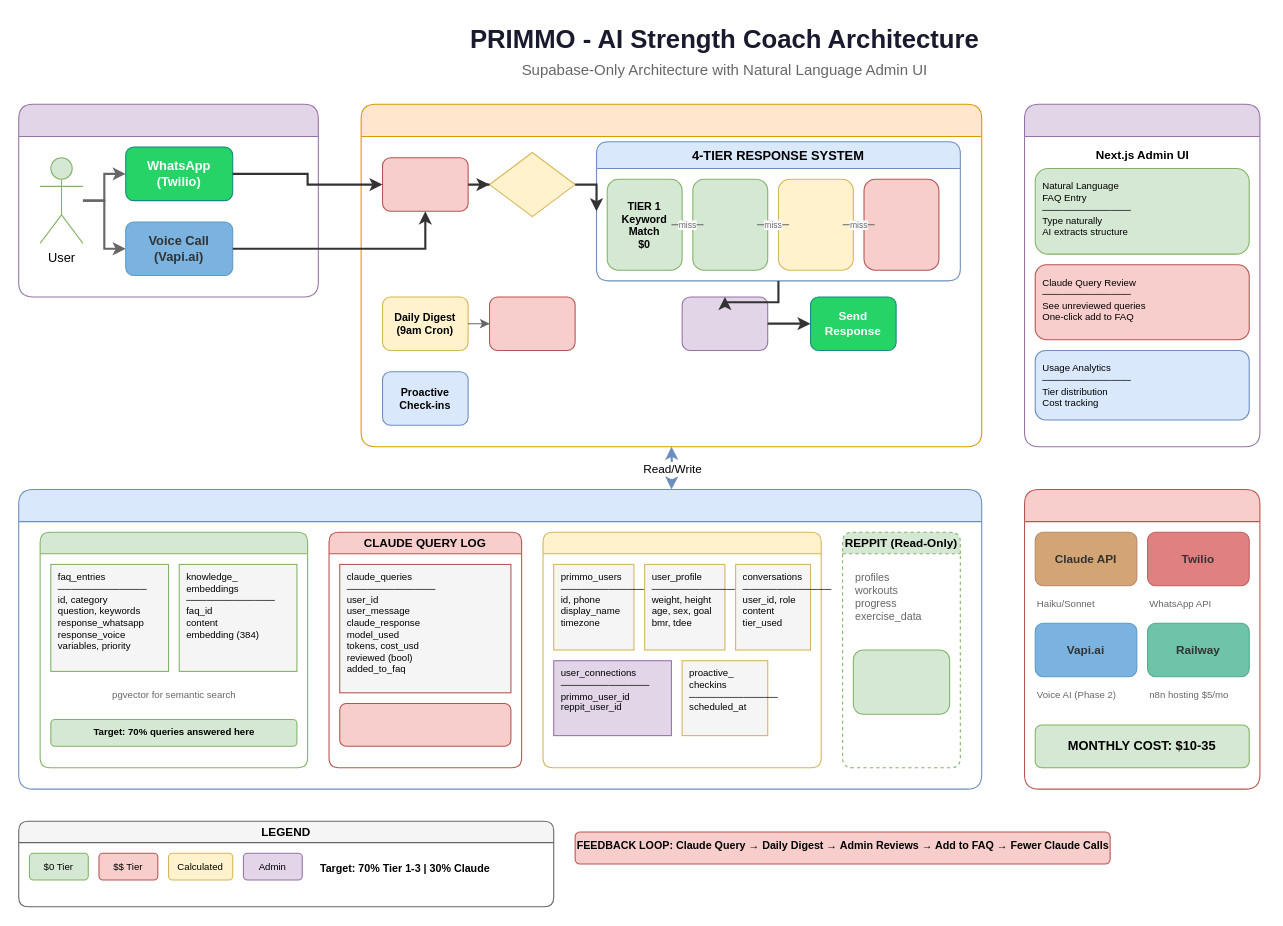
The diagram is 1283 pixels wide and 926 high, and some of its shapes have lost their labels. Here are the shapes that lost their labels. From the top down, the box of each, then its label:
(18, 103, 318, 297): USER CHANNELS
(381, 157, 468, 211): Webhook Handler
(488, 151, 575, 217): Message Router
(692, 178, 768, 270): TIER 2 Semantic Search $0
(777, 178, 853, 270): TIER 3 Calculated (BMR/TDEE) $0
(863, 178, 939, 270): TIER 4 Claude API $$$
(360, 103, 982, 447): n8n ORCHESTRATION (Railway $5/mo)
(1023, 103, 1260, 447): ADMIN DASHBOARD (Vercel Free)
(488, 296, 575, 350): Alert Admin (WhatsApp)
(681, 296, 768, 350): Response Formatter
(39, 531, 308, 768): KNOWLEDGE HUB
(18, 488, 982, 789): SUPABASE (Free Tier)
(542, 531, 821, 768): USER DATA
(1023, 488, 1260, 789): EXTERNAL SERVICES
(852, 649, 950, 714): Optional integration for enhanced context
(339, 702, 511, 746): Daily digest reads this to alert you of new queries
